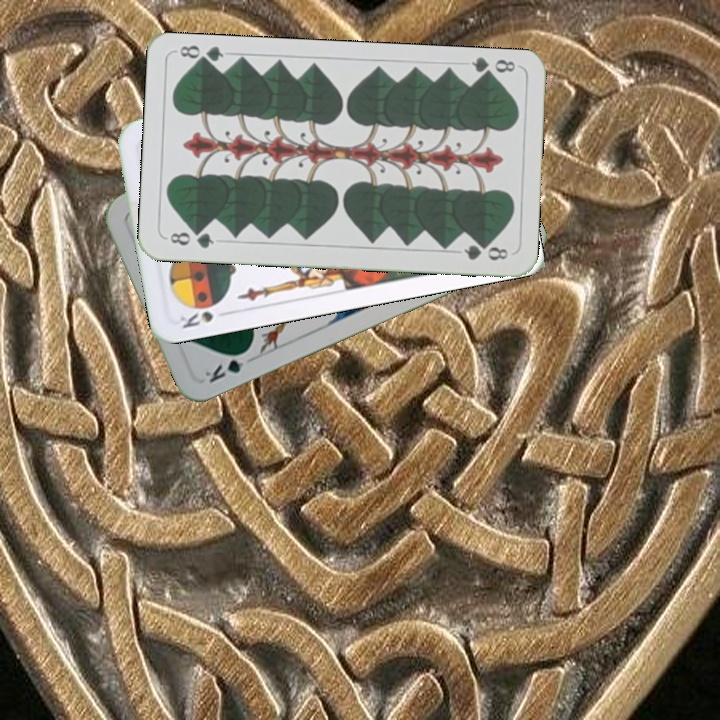G8: (467, 54, 520, 82), (163, 227, 217, 251)
GK: (200, 346, 252, 386)
SK: (176, 307, 233, 331)
